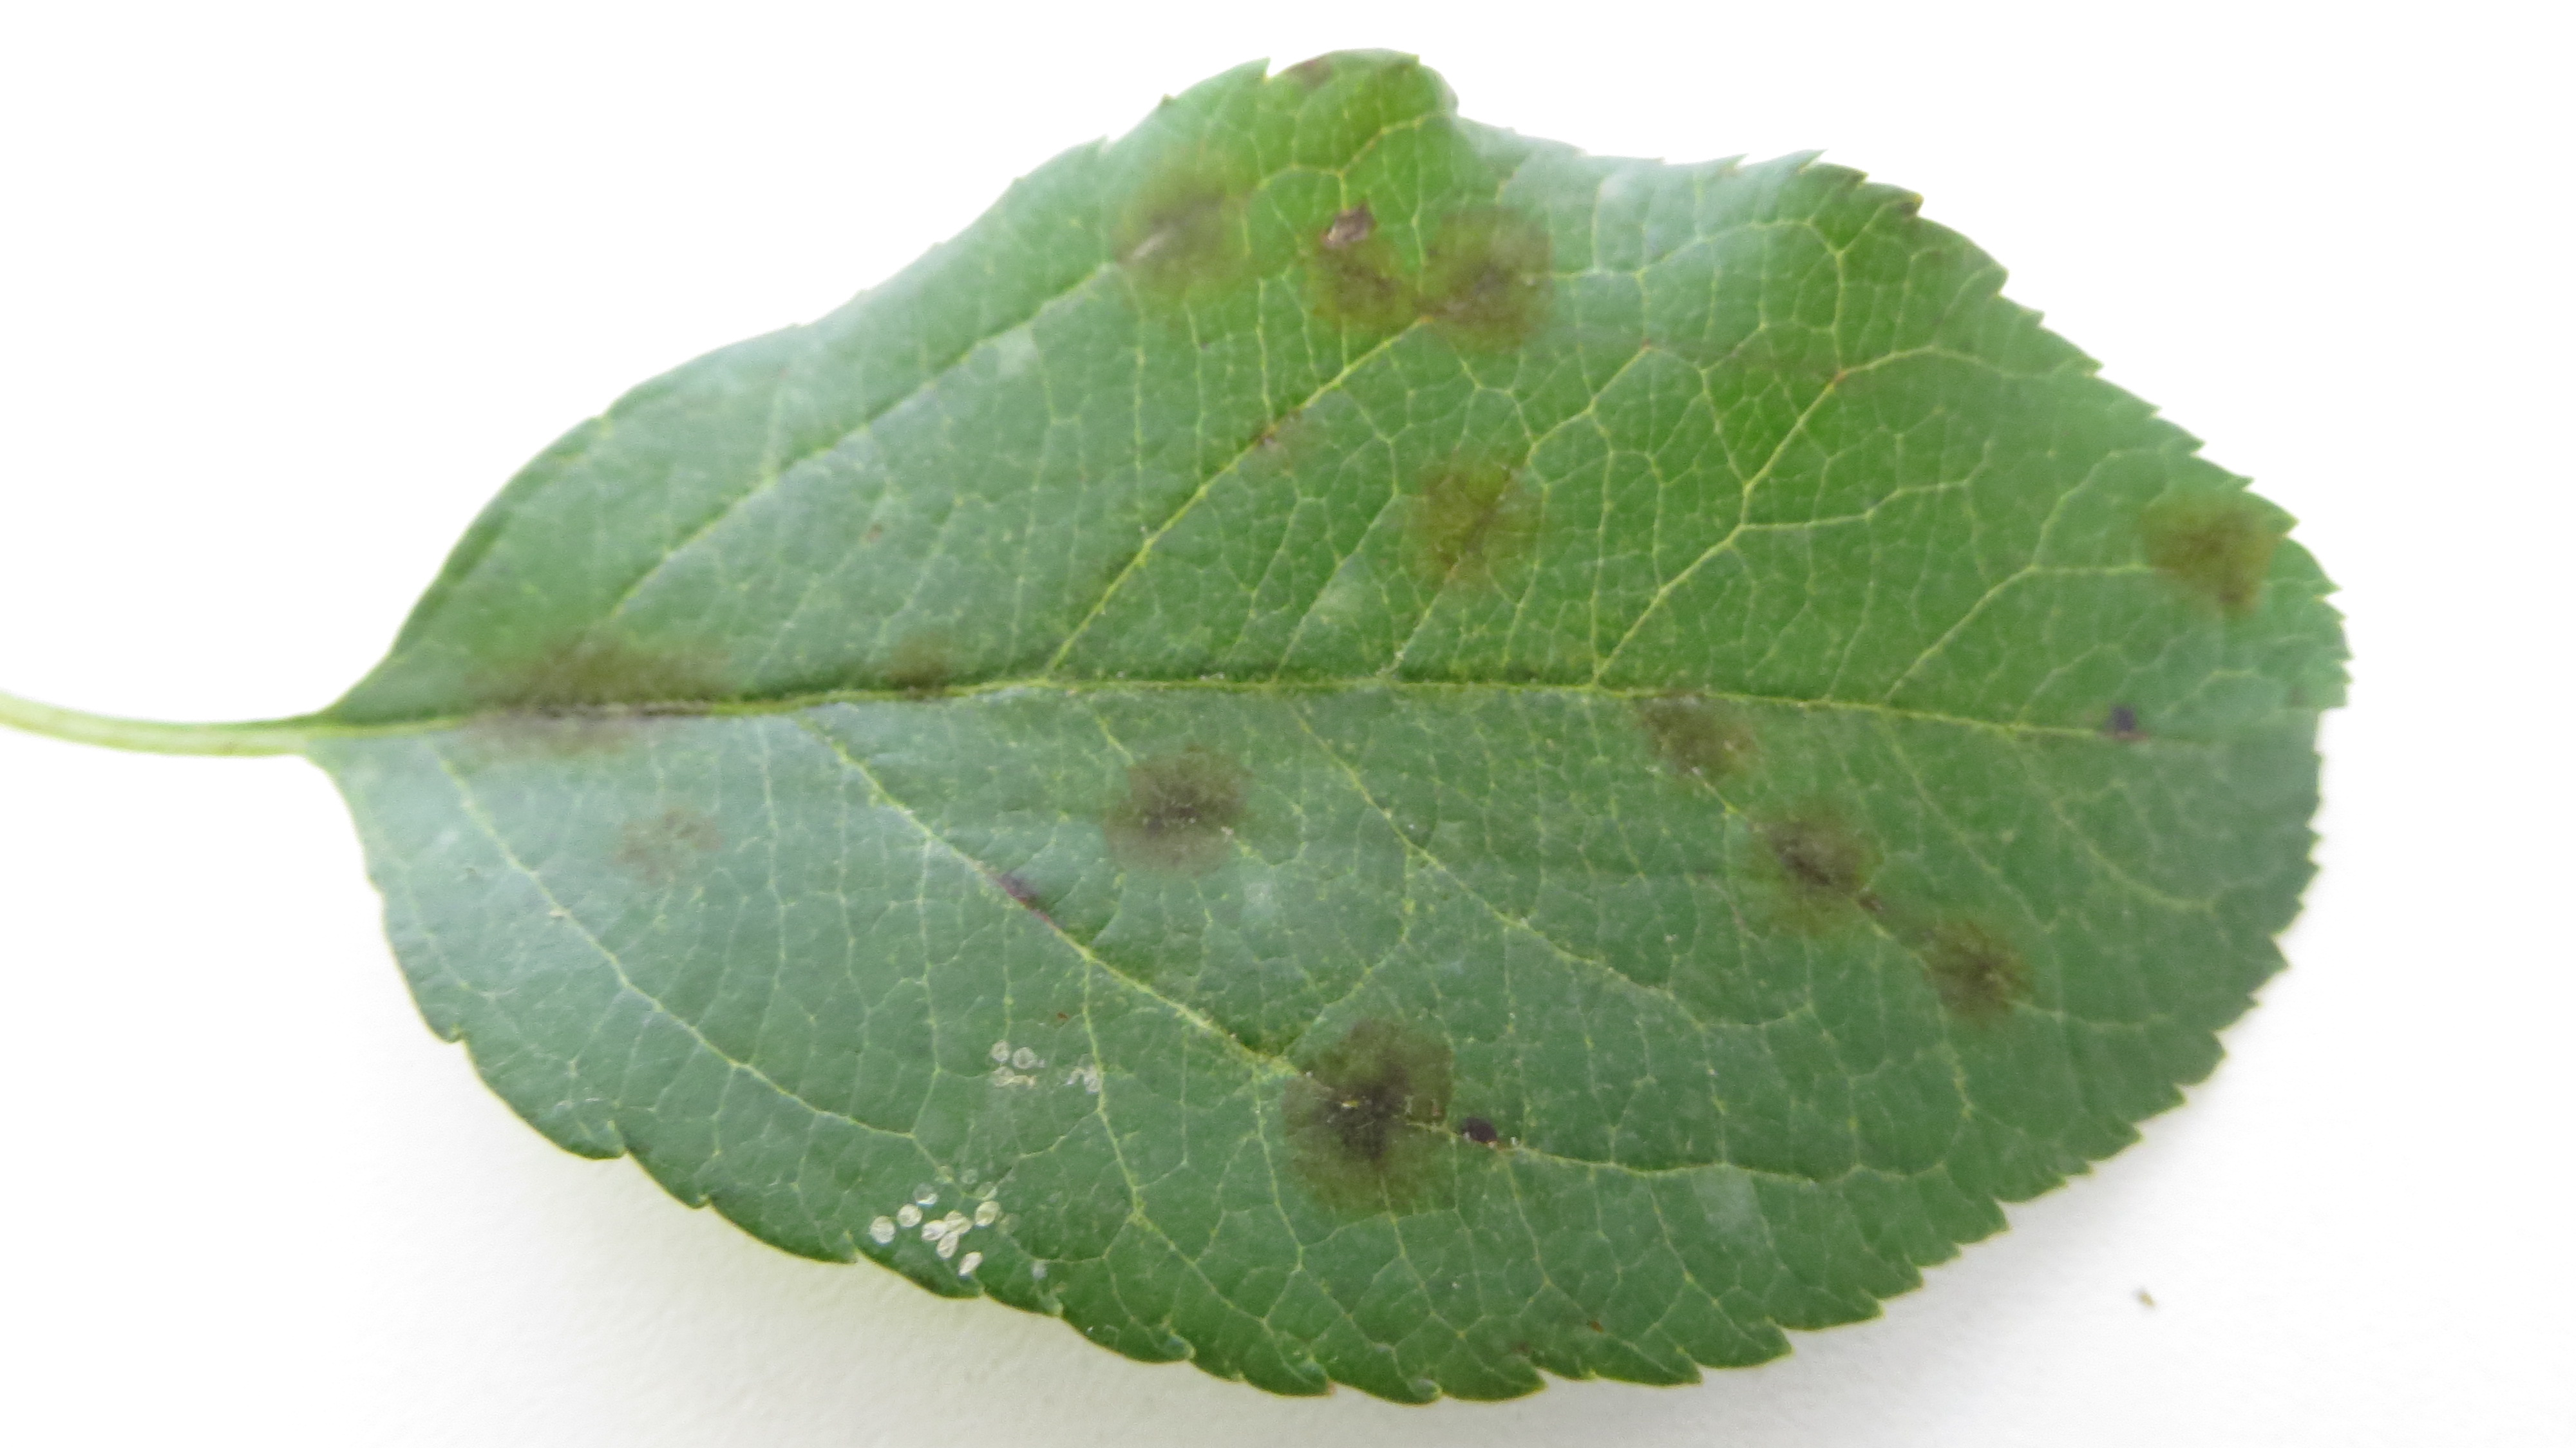sarna: (1269, 1007, 1458, 1223), (1093, 127, 1253, 322), (1387, 448, 1560, 600), (1097, 736, 1260, 897), (2121, 481, 2289, 637), (1415, 184, 1559, 359), (1732, 788, 1890, 940), (602, 597, 741, 761), (458, 621, 603, 763), (1904, 906, 2045, 1048), (1295, 188, 1421, 345), (1635, 671, 1771, 807), (952, 834, 1053, 936), (876, 627, 977, 728), (1253, 34, 1369, 119), (1233, 382, 1323, 483), (1677, 1144, 1764, 1246), (973, 304, 1054, 400), (596, 814, 671, 908), (655, 782, 725, 860), (2091, 671, 2157, 754), (1449, 1089, 1504, 1175)
